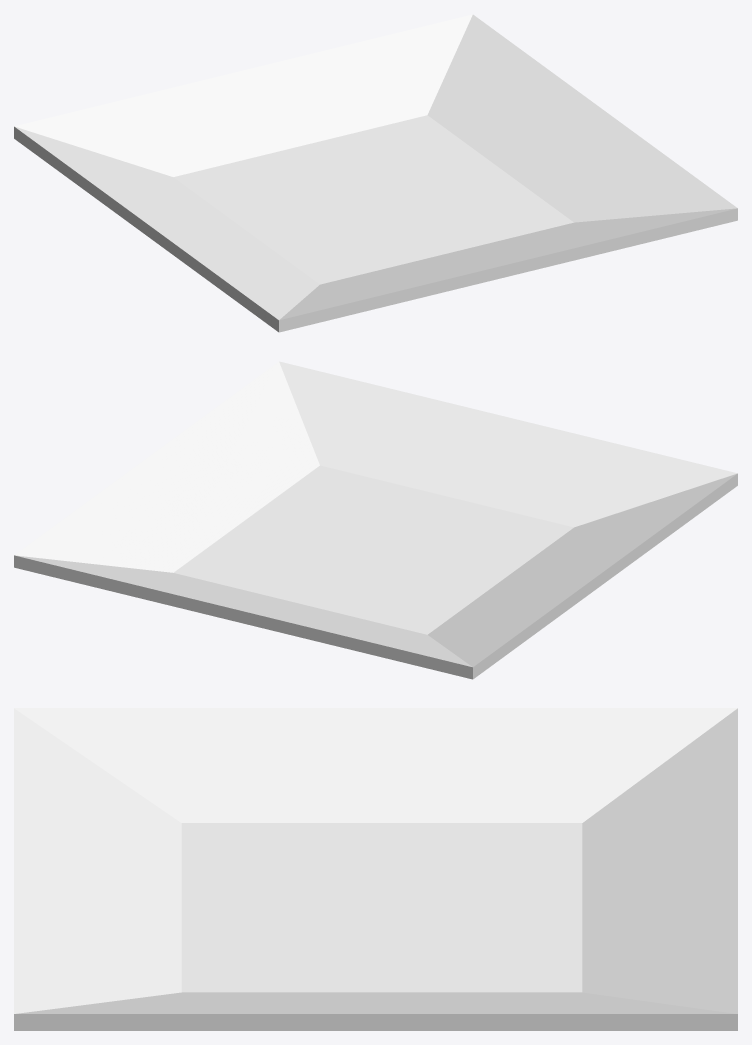
The model's file is Plate.fbx.
The picture shows the model from 3 angles, top to bottom: view 1: azimuth 30°, elevation 25°; view 2: azimuth 150°, elevation 25°; view 3: azimuth 270°, elevation 25°; orthographic projection. The views are drawn at different scales.
Parts seen in each view (by area): view 1: Plate; view 2: Plate; view 3: Plate.
Part boxes in pixels (x1=…): Plate: x1=14, y1=14, x2=737, y2=332; Plate: x1=14, y1=361, x2=737, y2=679; Plate: x1=14, y1=708, x2=737, y2=1030.
Size of the model in its own units: 55.65 by 4.44 by 55.65.
